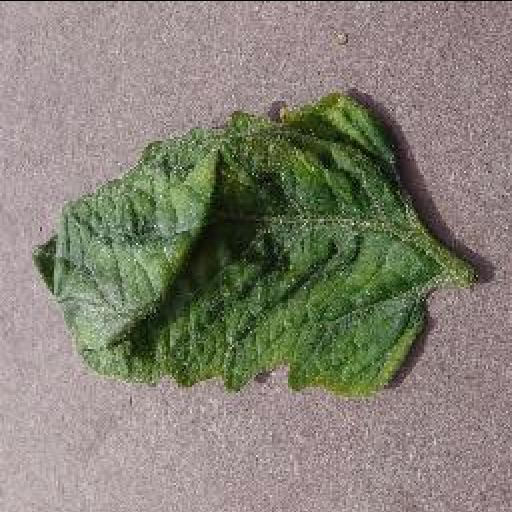disease_tomato: (36, 86, 430, 394)
